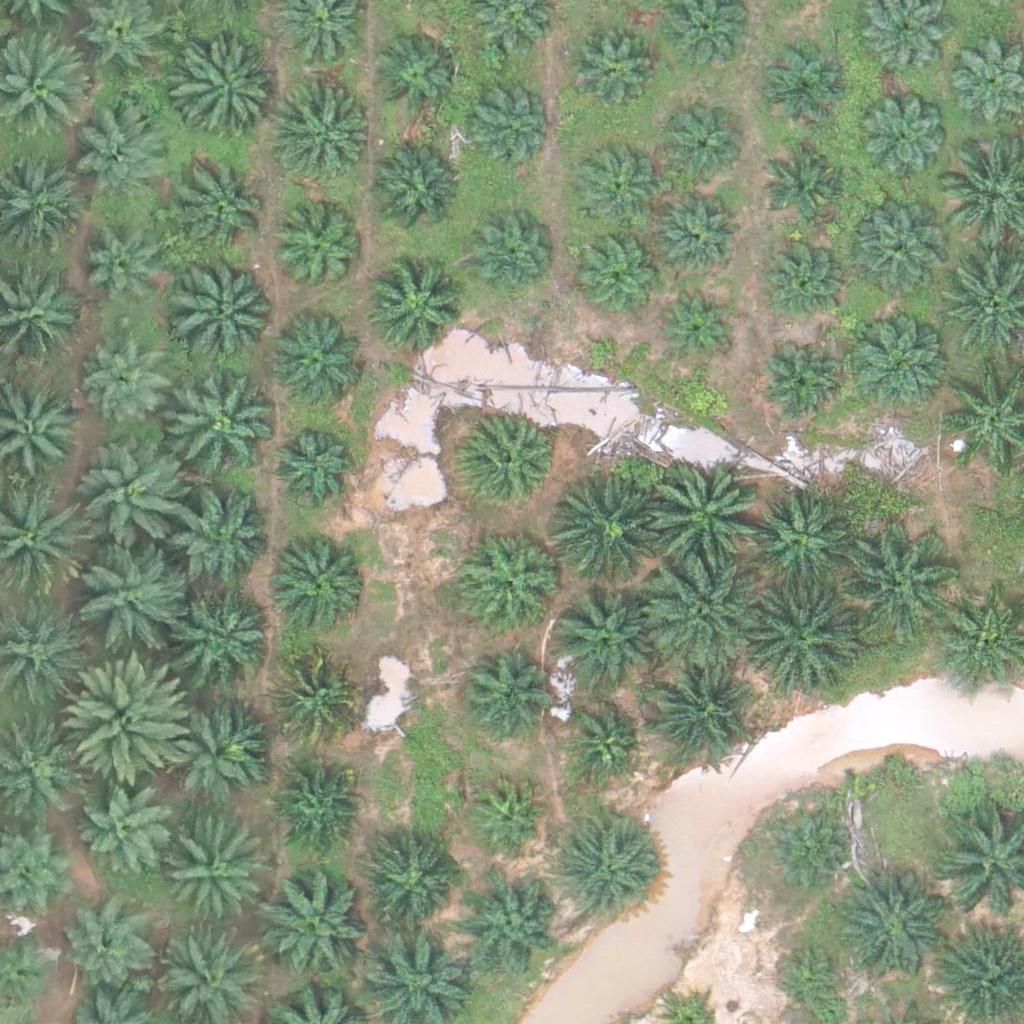Kelapa_Sawit: (68, 658, 193, 784), (742, 582, 855, 696), (70, 536, 183, 650), (833, 873, 946, 986), (260, 868, 373, 981), (549, 478, 662, 591), (164, 367, 277, 480), (77, 442, 190, 555), (170, 252, 282, 366), (842, 524, 954, 637), (650, 557, 762, 670), (649, 461, 761, 574), (550, 587, 650, 688), (270, 529, 370, 630), (177, 588, 277, 689), (163, 825, 263, 926), (848, 207, 948, 308), (749, 488, 849, 589), (364, 143, 464, 244), (365, 259, 465, 360), (274, 87, 374, 188), (174, 43, 274, 144), (648, 662, 748, 762), (558, 822, 658, 922), (461, 530, 561, 630), (464, 875, 564, 975), (172, 495, 272, 595), (162, 695, 262, 795), (847, 313, 947, 413), (459, 415, 559, 515), (267, 315, 367, 415), (176, 159, 276, 259), (77, 103, 177, 203), (761, 809, 849, 897), (458, 647, 546, 735), (369, 842, 457, 930), (269, 653, 357, 741), (62, 905, 150, 993), (860, 94, 948, 182), (460, 76, 548, 164), (562, 24, 650, 112), (759, 342, 847, 430), (276, 209, 364, 297), (268, 422, 356, 510), (272, 761, 359, 849), (80, 785, 167, 873), (467, 211, 554, 299), (577, 228, 664, 316), (573, 143, 660, 231), (658, 104, 745, 192), (659, 188, 746, 276), (757, 232, 844, 320), (765, 135, 852, 223), (757, 38, 844, 126), (372, 29, 459, 117), (81, 236, 168, 324), (86, 341, 173, 429), (660, 285, 735, 361), (470, 778, 545, 854), (565, 704, 640, 779), (773, 940, 848, 1015)
